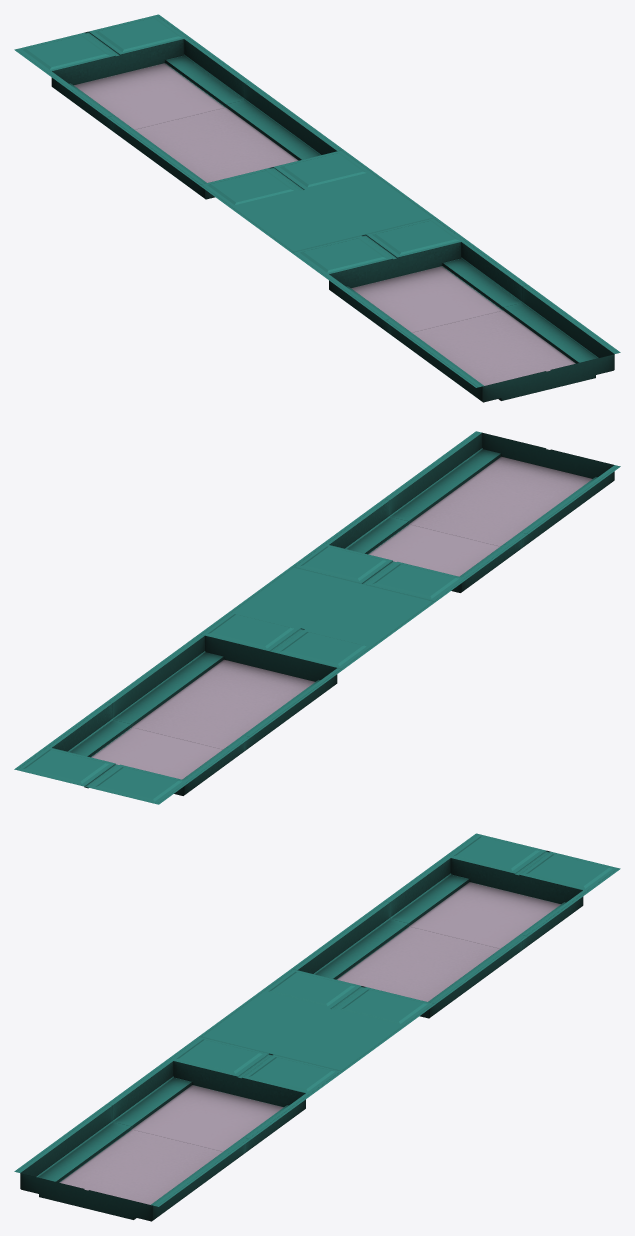
File: sc_lvl1_floortile_13.FBX
The picture shows the model from 3 angles, top to bottom: view 1: azimuth 30°, elevation 25°; view 2: azimuth 150°, elevation 25°; view 3: azimuth 330°, elevation 25°; orthographic projection.
Parts seen in each view (by area): view 1: sc_lvl1_floortile_13; view 2: sc_lvl1_floortile_13; view 3: sc_lvl1_floortile_13.
Boxes of the visible parts, box(x1,y1,x2,y2) form: sc_lvl1_floortile_13: box(14, 14, 620, 402); sc_lvl1_floortile_13: box(14, 431, 620, 804); sc_lvl1_floortile_13: box(14, 833, 620, 1221).
Bounding box in the file's own units: 18.1 × 2.43 × 100.
